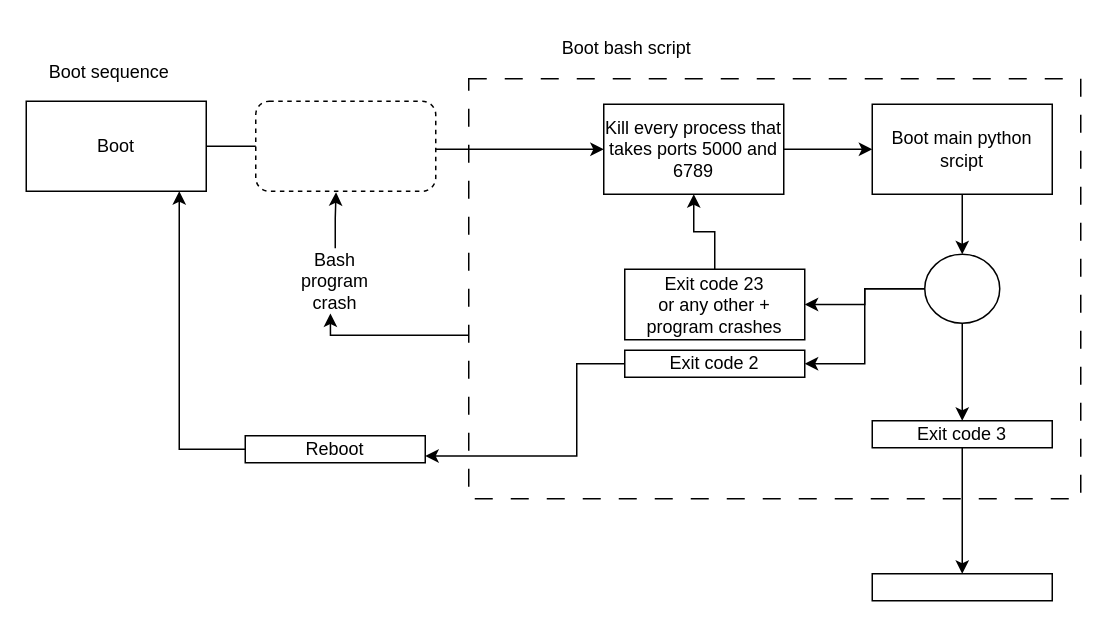
The diagram is 1107 pixels wide and 627 high, and some of its shapes have lost their labels. Each missing label, with the centre of its shape:
"exit code" belongs at point (961, 288).
"Service" belongs at point (345, 145).
"Shutdown" belongs at point (961, 586).
